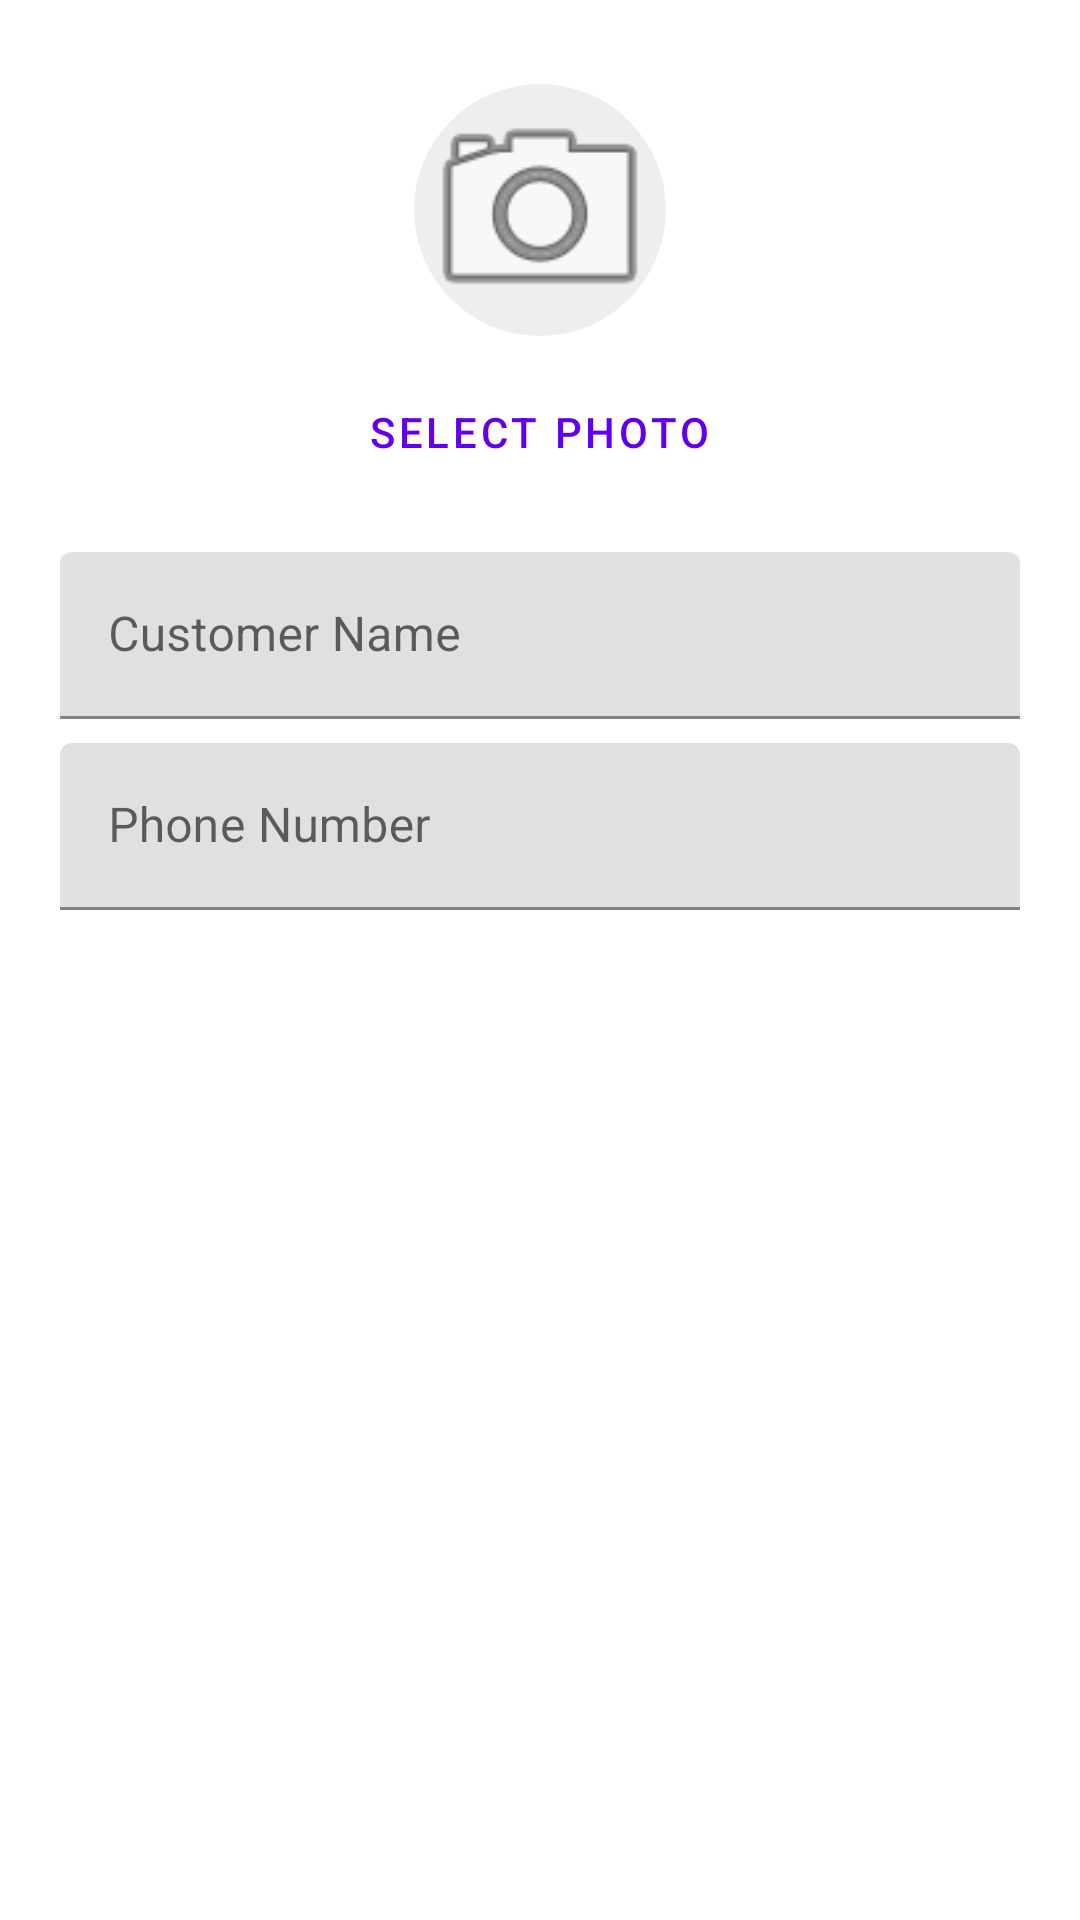

Screen size 1080*1920. Icon name, then its box in pixels as (x1, y1, x2, y2):
camera: (442, 128, 638, 284)
